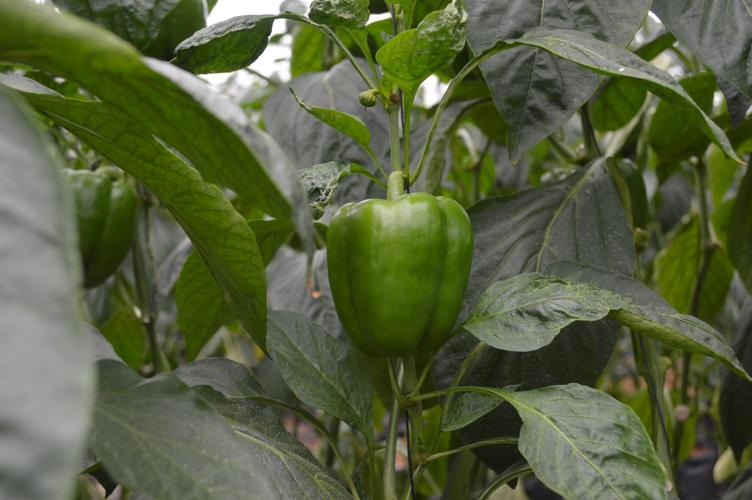BellPepper: (308, 177, 478, 369), (55, 158, 149, 294)
